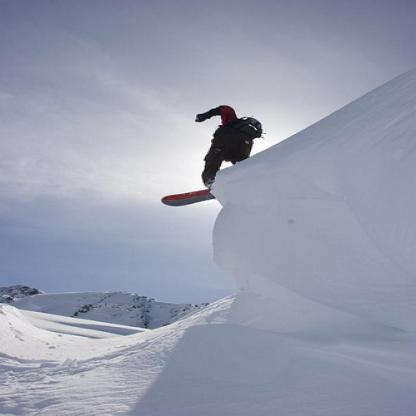backpack: (230, 117, 264, 140)
